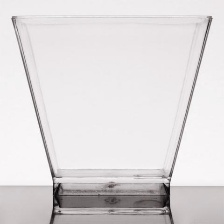glass: (9, 6, 223, 199)
